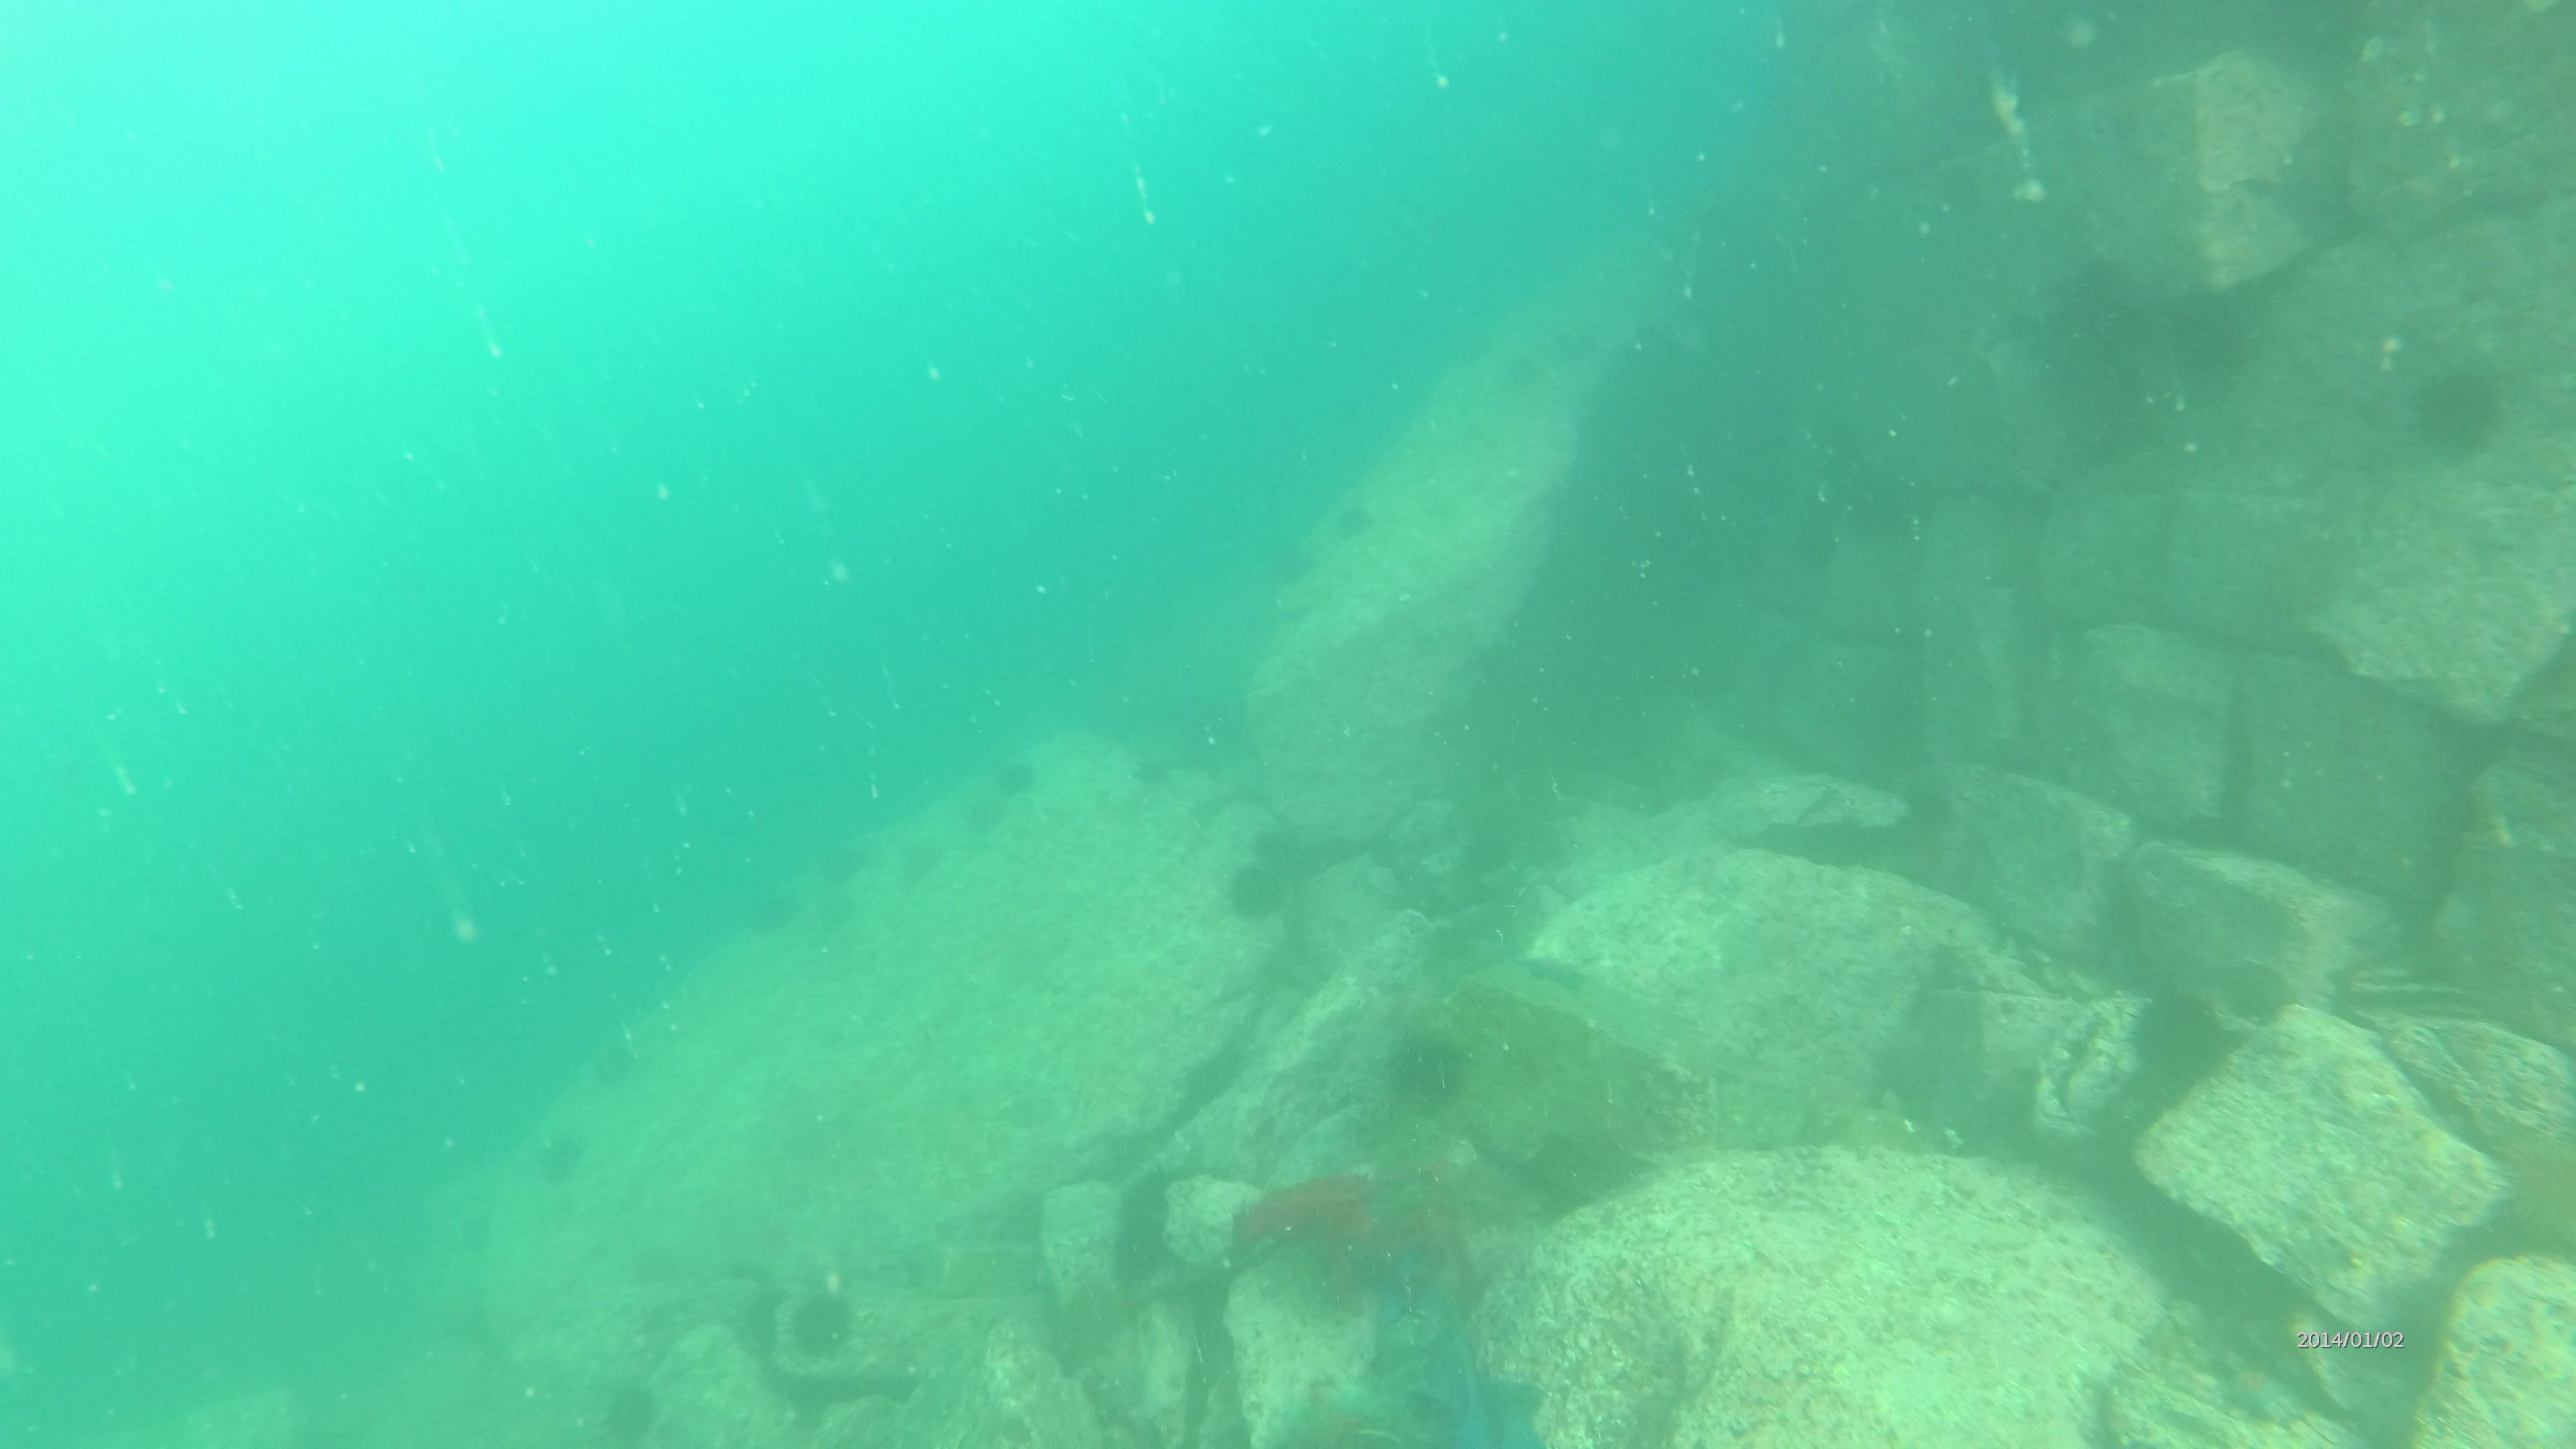echinus: (2132, 987, 2240, 1085), (1369, 1021, 1476, 1116), (2424, 361, 2516, 455), (1228, 860, 1292, 924), (796, 1292, 856, 1357)
